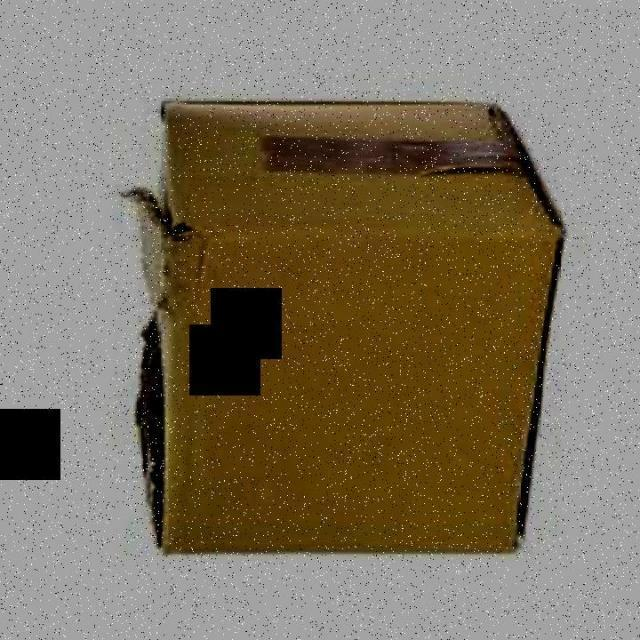box: (114, 81, 568, 564)
